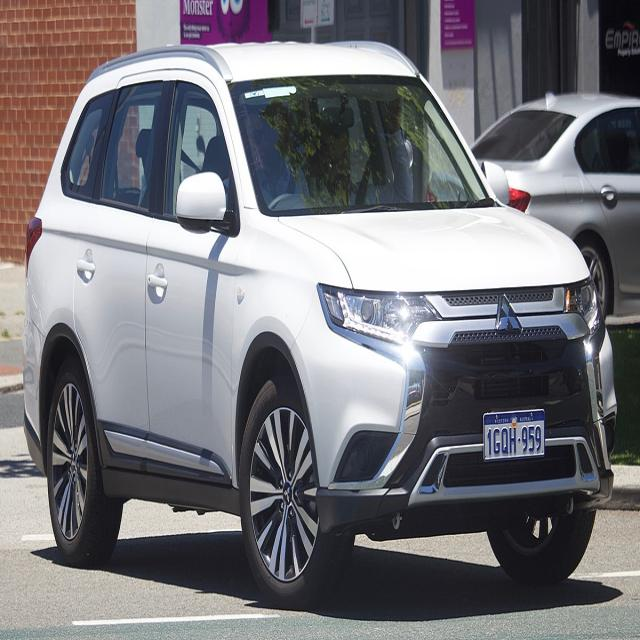light_vehicle: (20, 35, 617, 608)
